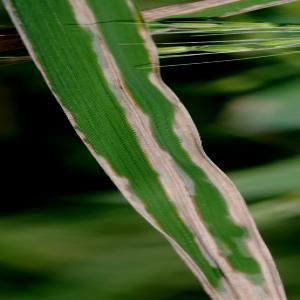2 BacterialBlight: (60, 3, 183, 230)
